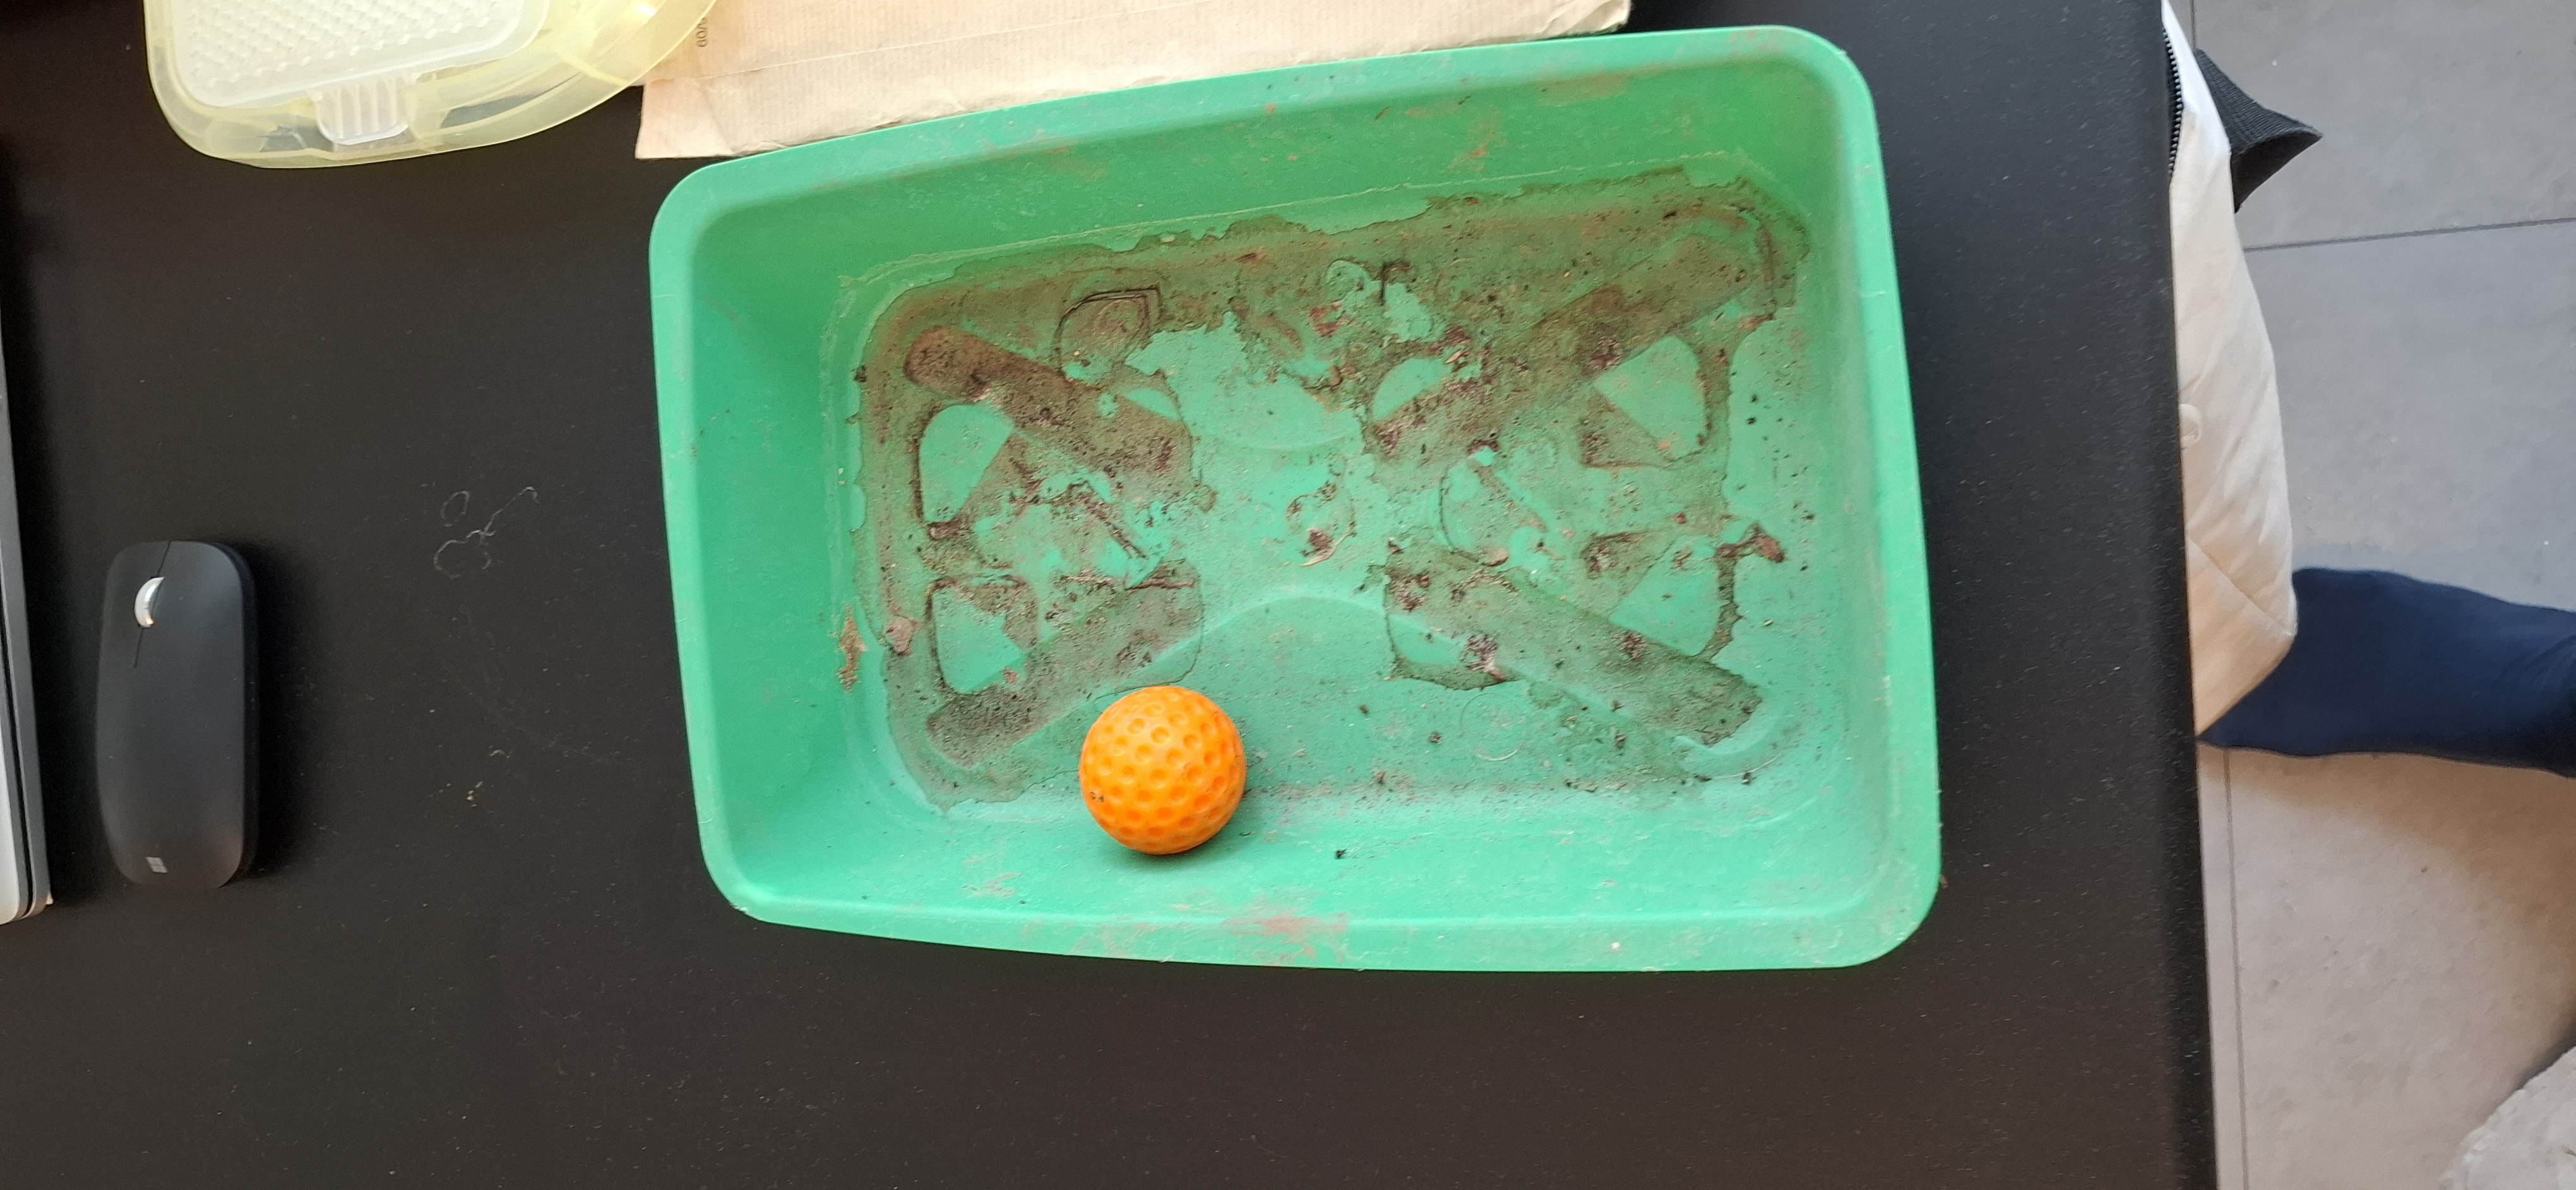ball: (1081, 684, 1249, 863)
